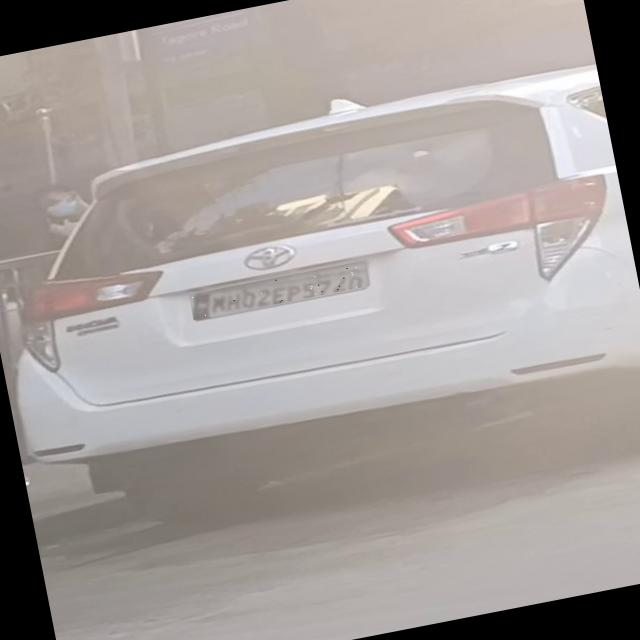Plate: (190, 261, 372, 321)
